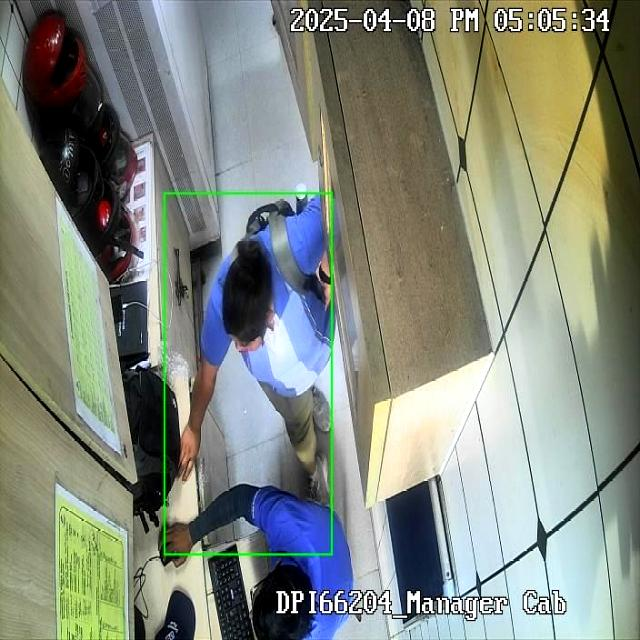helmet: (21, 14, 88, 109)
no_helmet: (221, 238, 271, 354), (249, 565, 316, 639)
